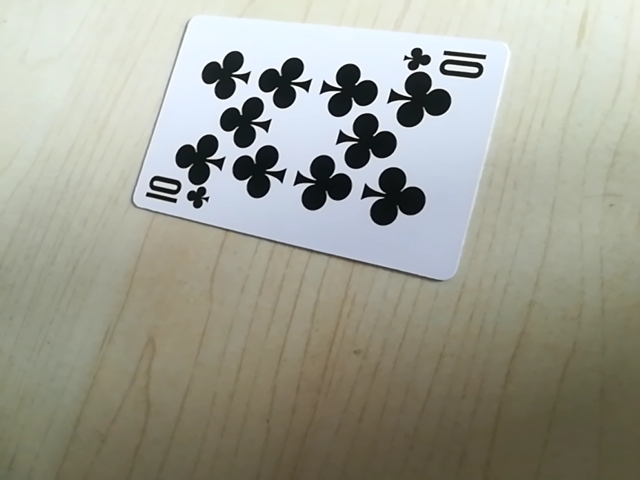mh 10: (402, 43, 493, 80), (140, 179, 212, 215)
